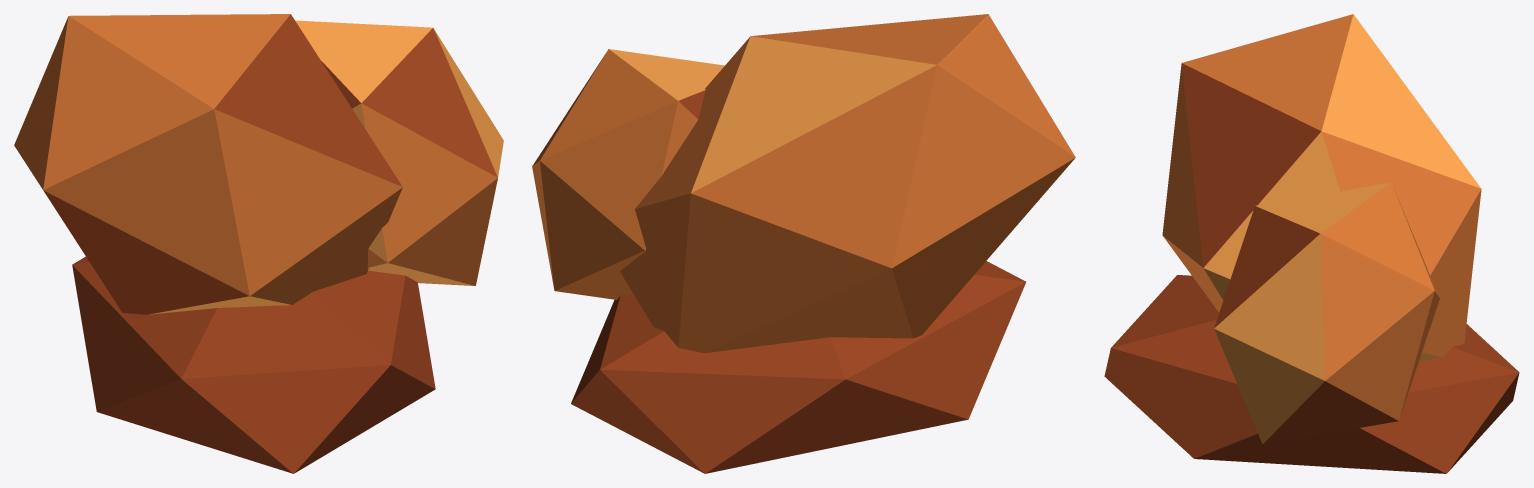
The model's file is CopperOre_03.fbx.
3 views of the same model, side by side, from view 1: azimuth 30°, elevation 25°; view 2: azimuth 150°, elevation 25°; view 3: azimuth 270°, elevation 25° (orthographic). The views are drawn at different scales.
Visible parts, largest first — view 1: Ore_03_Lobe_0, Ore_03_GroundMass, Ore_03_Lobe_1; view 2: Ore_03_Lobe_0, Ore_03_GroundMass, Ore_03_Lobe_1; view 3: Ore_03_Lobe_0, Ore_03_Lobe_1, Ore_03_GroundMass.
Part boxes in pixels (x1=…): Ore_03_Lobe_0: x1=14, y1=14, x2=402, y2=314; Ore_03_GroundMass: x1=72, y1=256, x2=435, y2=473; Ore_03_Lobe_1: x1=295, y1=20, x2=503, y2=285; Ore_03_Lobe_0: x1=620, y1=14, x2=1075, y2=353; Ore_03_GroundMass: x1=571, y1=261, x2=1025, y2=473; Ore_03_Lobe_1: x1=532, y1=49, x2=724, y2=299; Ore_03_Lobe_0: x1=1162, y1=14, x2=1481, y2=362; Ore_03_Lobe_1: x1=1214, y1=182, x2=1439, y2=444; Ore_03_GroundMass: x1=1104, y1=275, x2=1519, y2=473.
Bounding box in the file's own units: 1.01 × 0.8176 × 0.8283.
